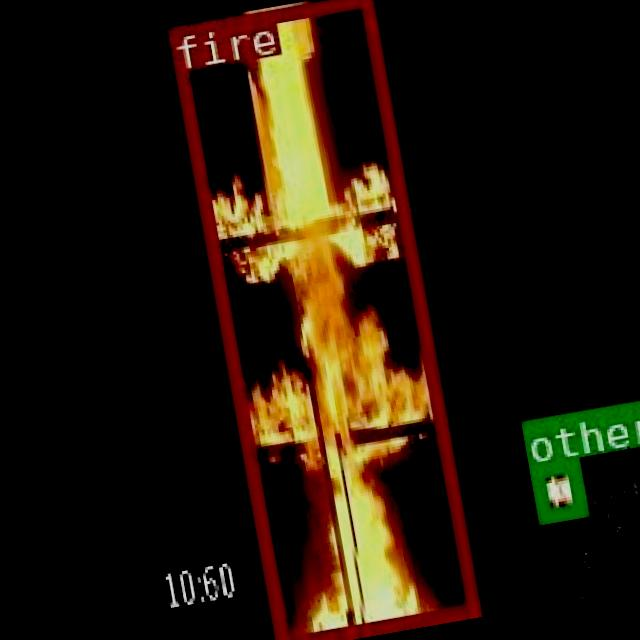fire: (167, 0, 476, 640)
